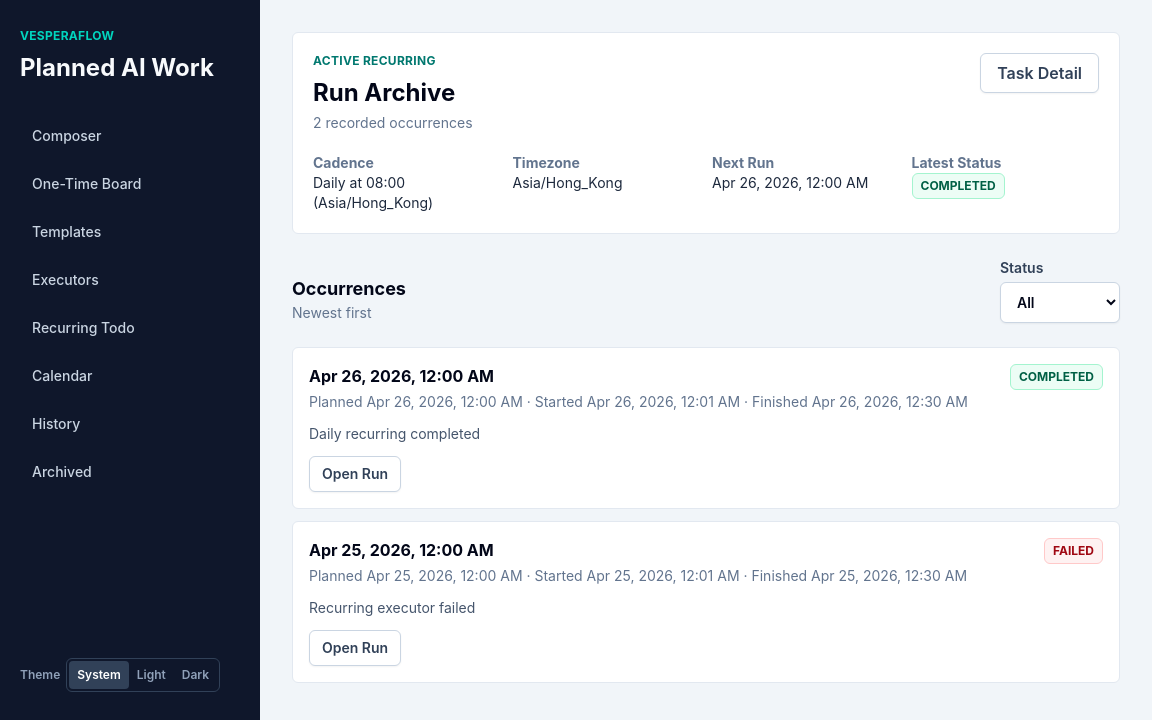
App › opens run detail from archive and then opens the reader
Click the button "Open Run" below "Daily recurring completed": (355, 474) [309,456,401,492]
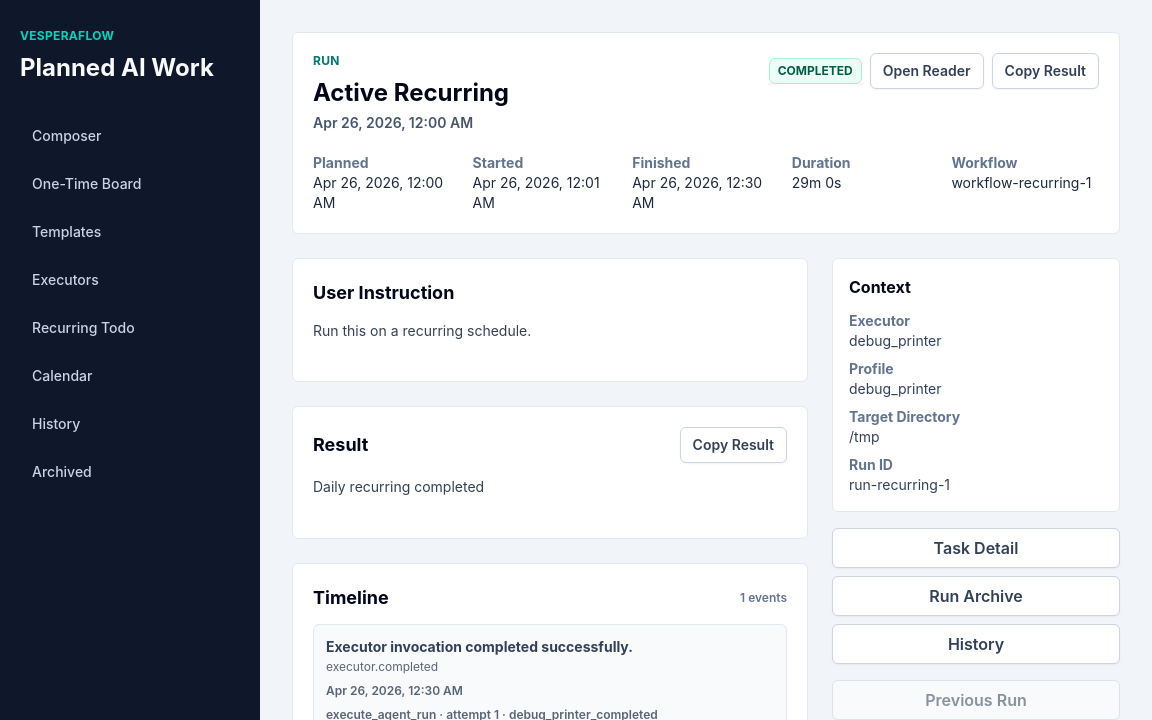
Check: the text "run-recurring-1" is shown, box [849,476,950,493]
Check: the text "Timeline" is shown, box [313,584,389,612]
Check: the text "Executor invocation completed successfully." is shown, box [326,636,633,656]
Click the button "Open Reader": (927, 71) [870,53,984,89]
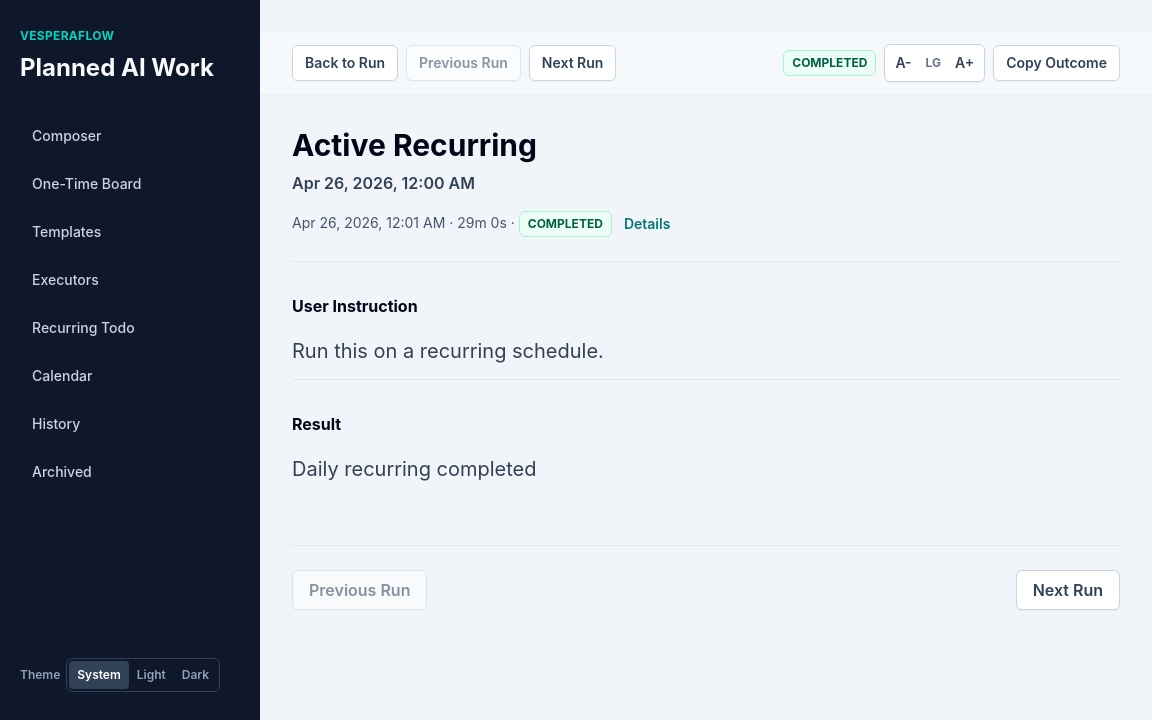
Check: the text "Daily recurring completed" is shown, box [292,457,536,481]
Check: the text "Timeline" is gone
Click the button "Next Run" in the row of "LG": (573, 63) [529,45,616,81]
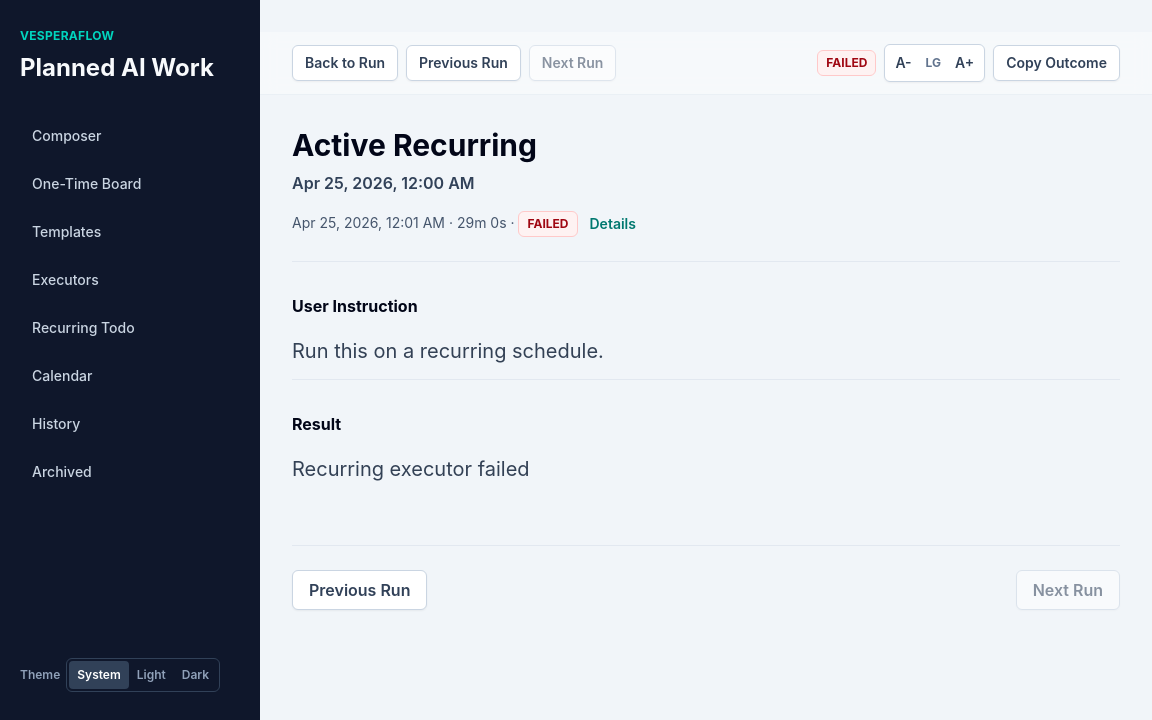
Check: the text "Recurring executor failed" is shown, box [292,457,530,481]
